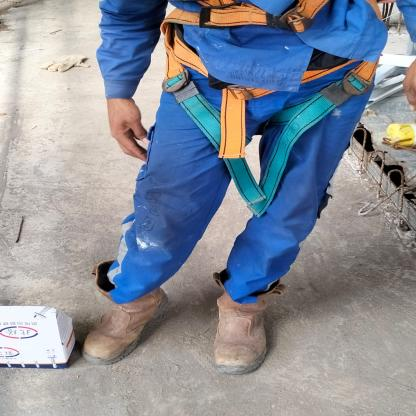bota: (80, 255, 176, 362), (207, 275, 288, 371)
